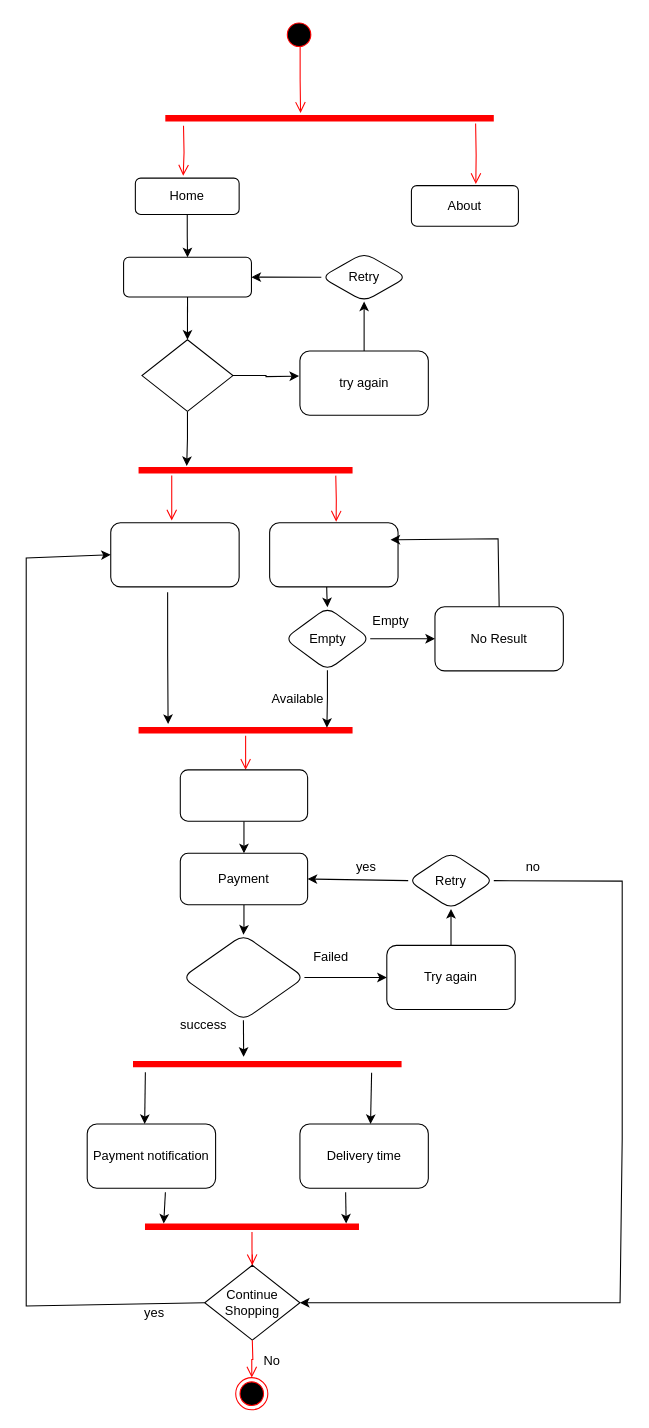
The diagram is 649 pixels wide and 1428 high, and some of its shapes have lost their labels. The centre of each missing label's shape, as x and y in pixels:
Add to cart: the point at 243,795
Search: the point at 333,554
Sign in: the point at 187,276
Transaction: the point at 242,977
Verification: the point at 187,375
View Category: the point at 174,554
